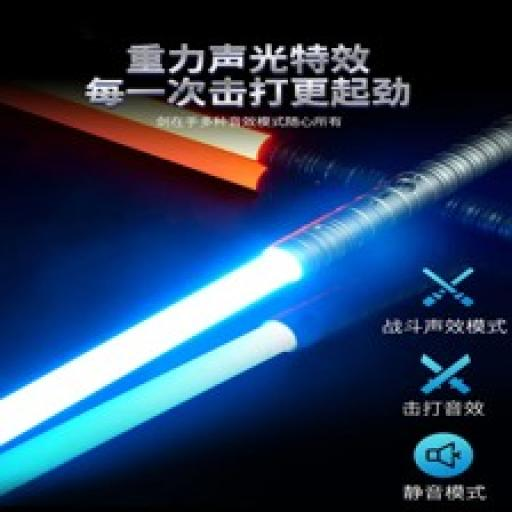lightsaber: (5, 113, 512, 450), (2, 71, 512, 256)
